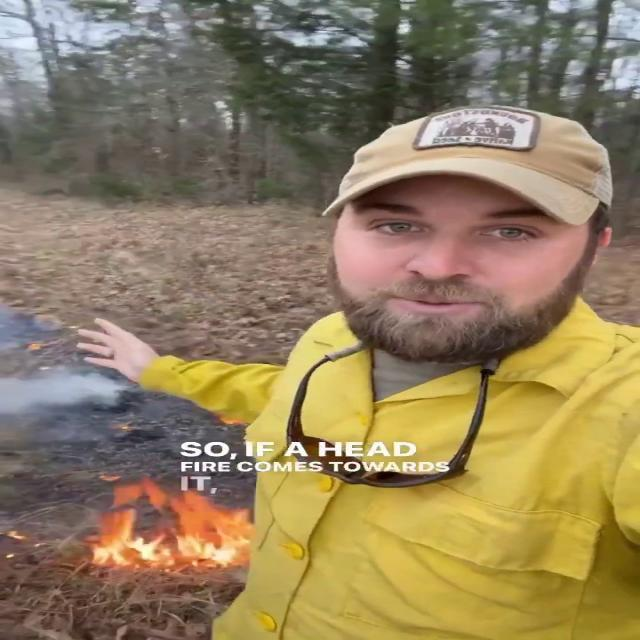Fire: (87, 480, 261, 570)
Smoke: (0, 365, 144, 422)
